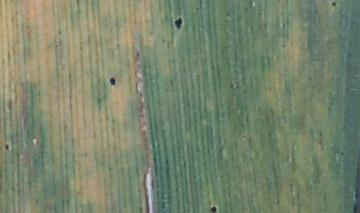tarspot: (173, 16, 183, 29), (108, 76, 117, 86), (3, 143, 10, 151), (330, 1, 337, 8), (211, 205, 217, 213), (134, 51, 140, 57)
